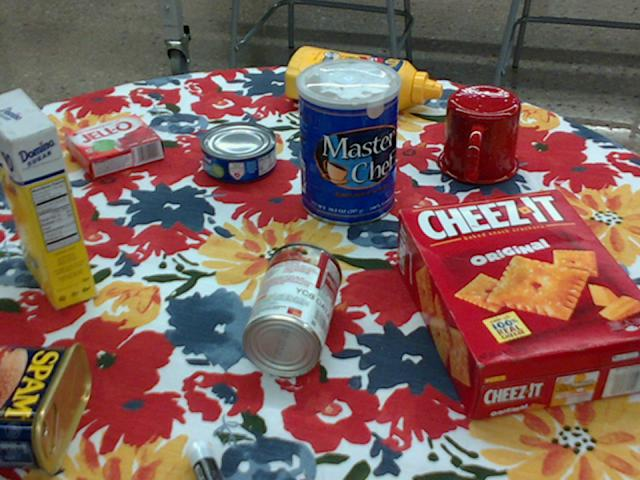cracker_box: (396, 189, 639, 422)
gelatin_box: (65, 116, 163, 181)
large_marker: (184, 440, 220, 479)
master_chef_can: (298, 58, 402, 227)
mug: (437, 86, 522, 186)
mustard_bottle: (285, 46, 442, 110)
potted_meat_can: (0, 341, 89, 471)
sugar_box: (0, 86, 95, 309)
tomato_soup_can: (242, 242, 341, 378)
tuna_fish_can: (199, 122, 276, 183)
